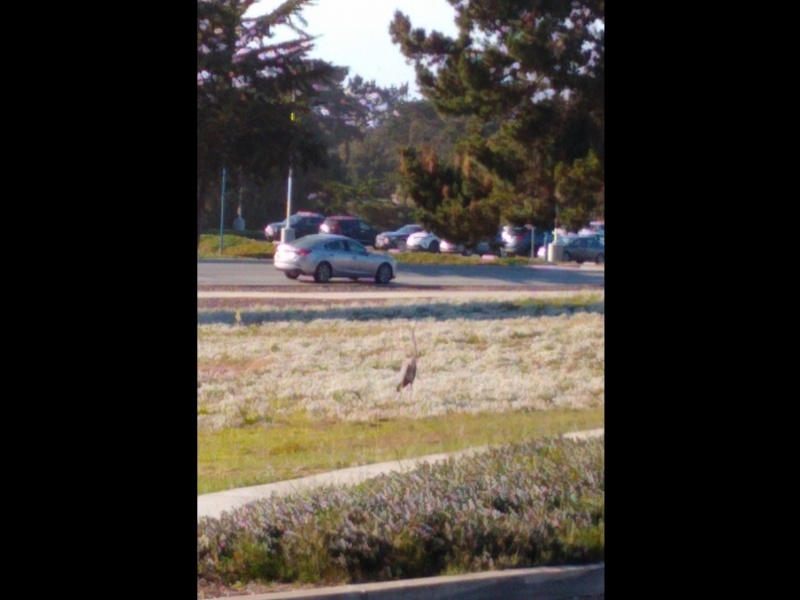heron: (391, 351, 424, 397)
